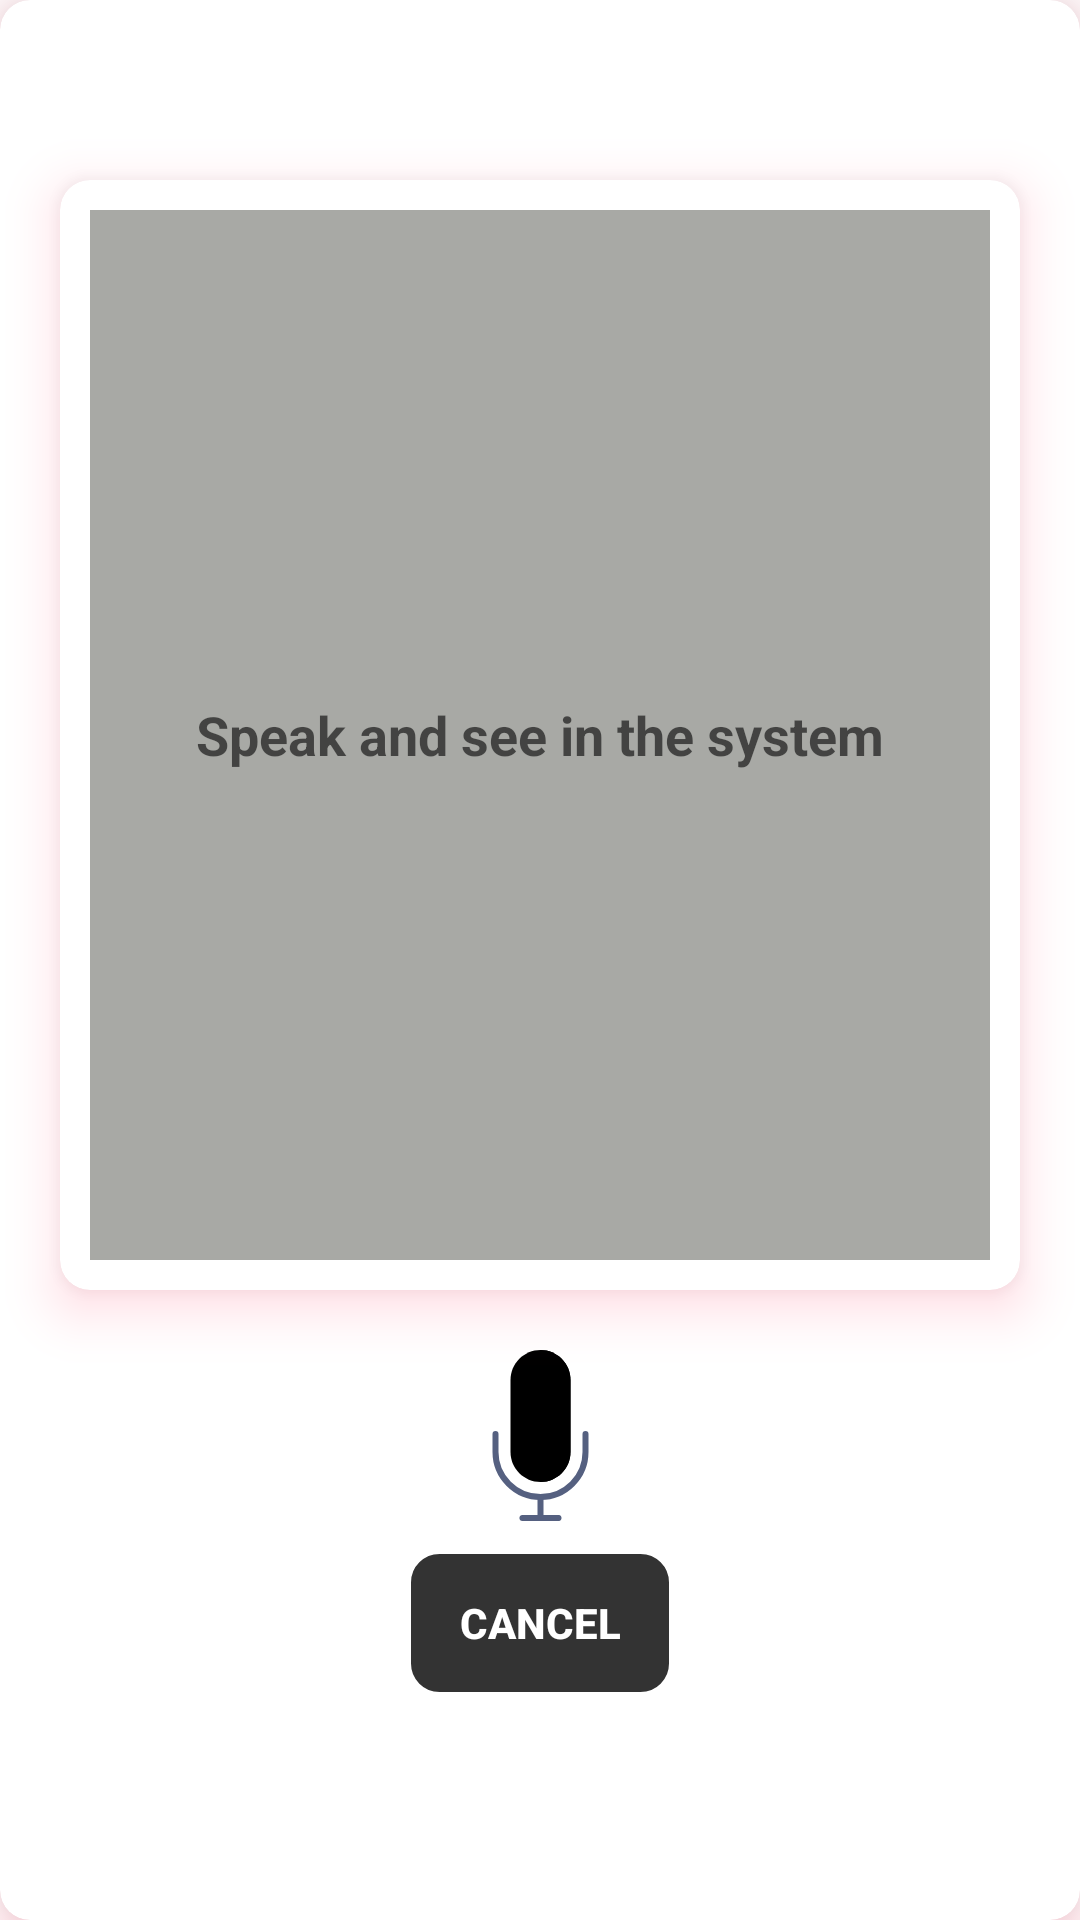

Locate icon controls on the screen. Image size 1080x1920, boxes as (x1, y1, x2, y2).
speech listener: (492, 1350, 589, 1521)
